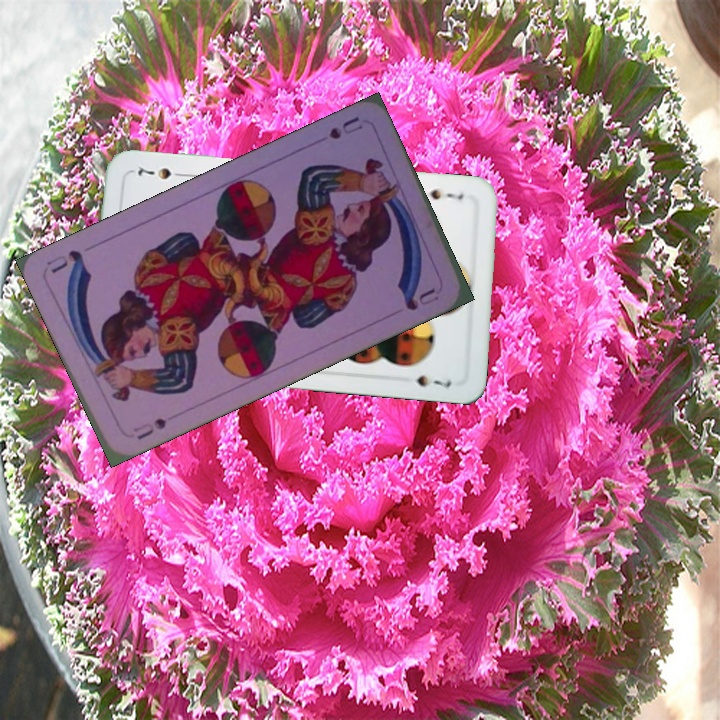S7: (426, 185, 466, 203)
SU: (325, 112, 366, 142), (132, 413, 169, 443)
